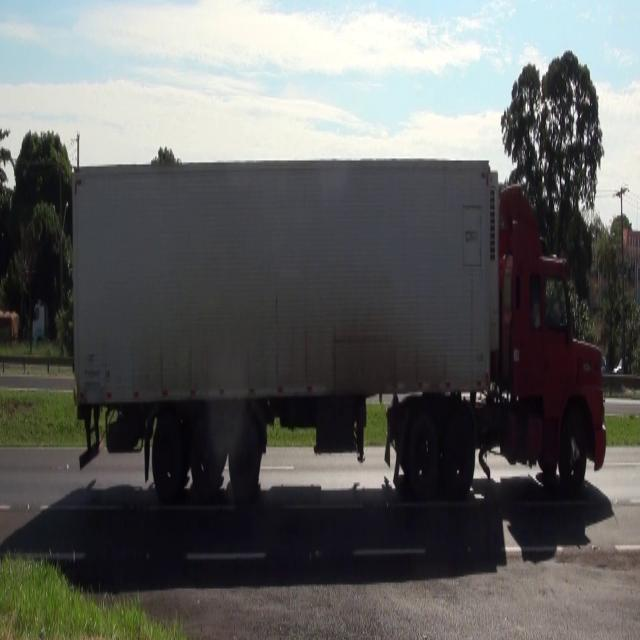-axle: (441, 411, 474, 503), (406, 408, 439, 498), (153, 416, 185, 502), (228, 415, 262, 495), (192, 412, 222, 498), (560, 415, 588, 498)
